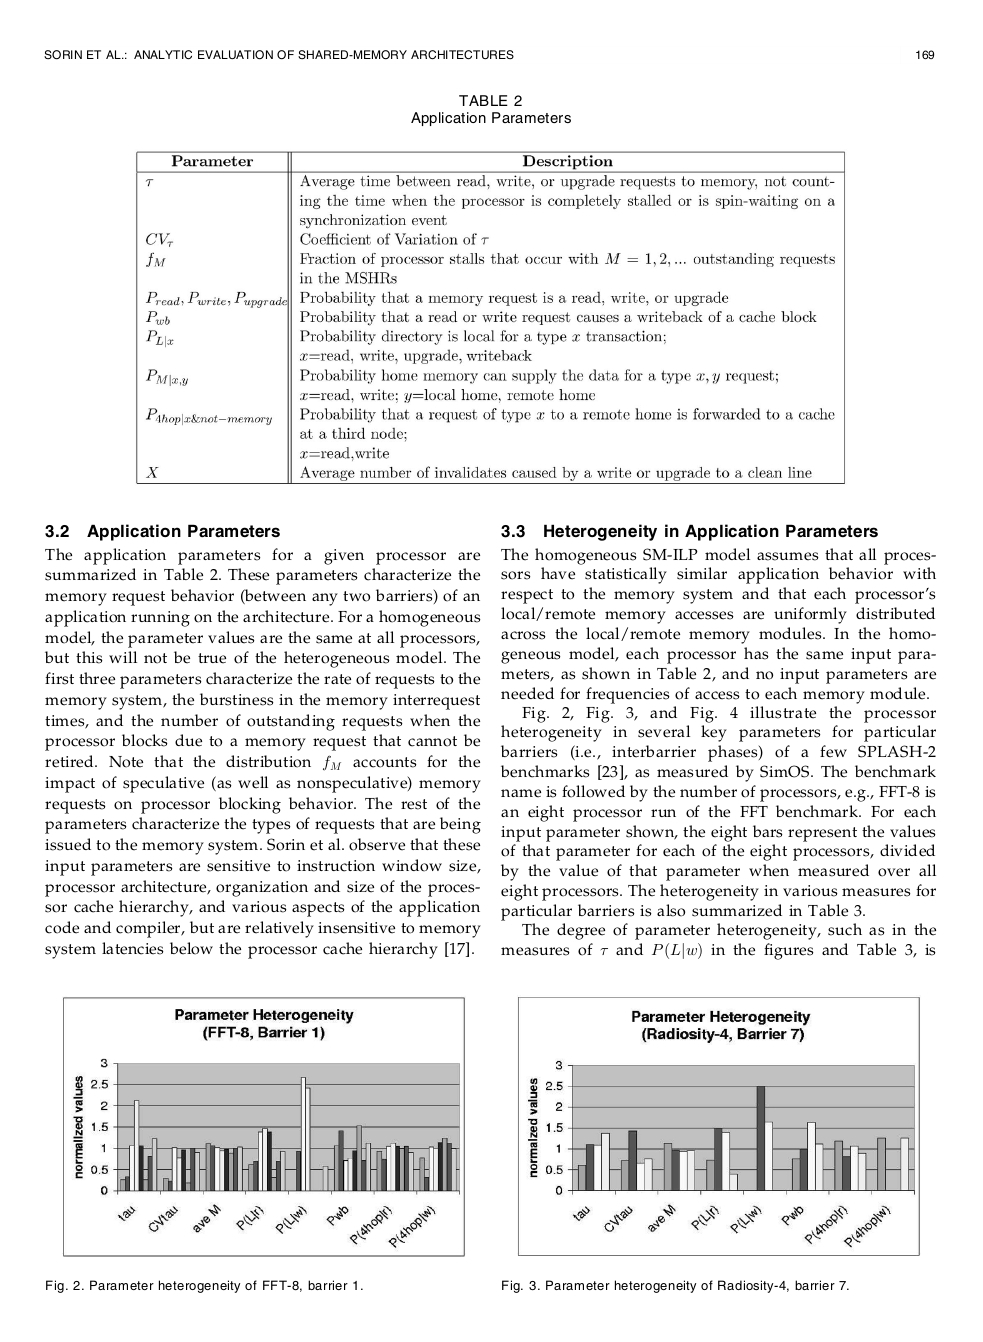Table: (136, 150, 844, 484)
figure: (62, 995, 464, 1257), (517, 995, 919, 1256)
